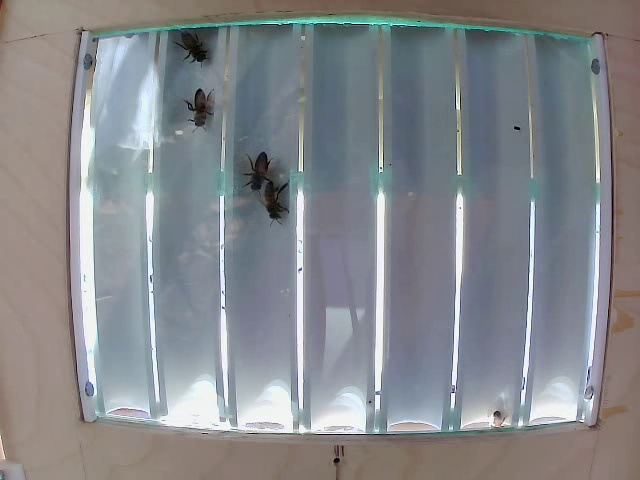bee: (180, 29, 218, 71), (177, 89, 220, 123), (264, 189, 290, 231), (242, 148, 268, 182)
